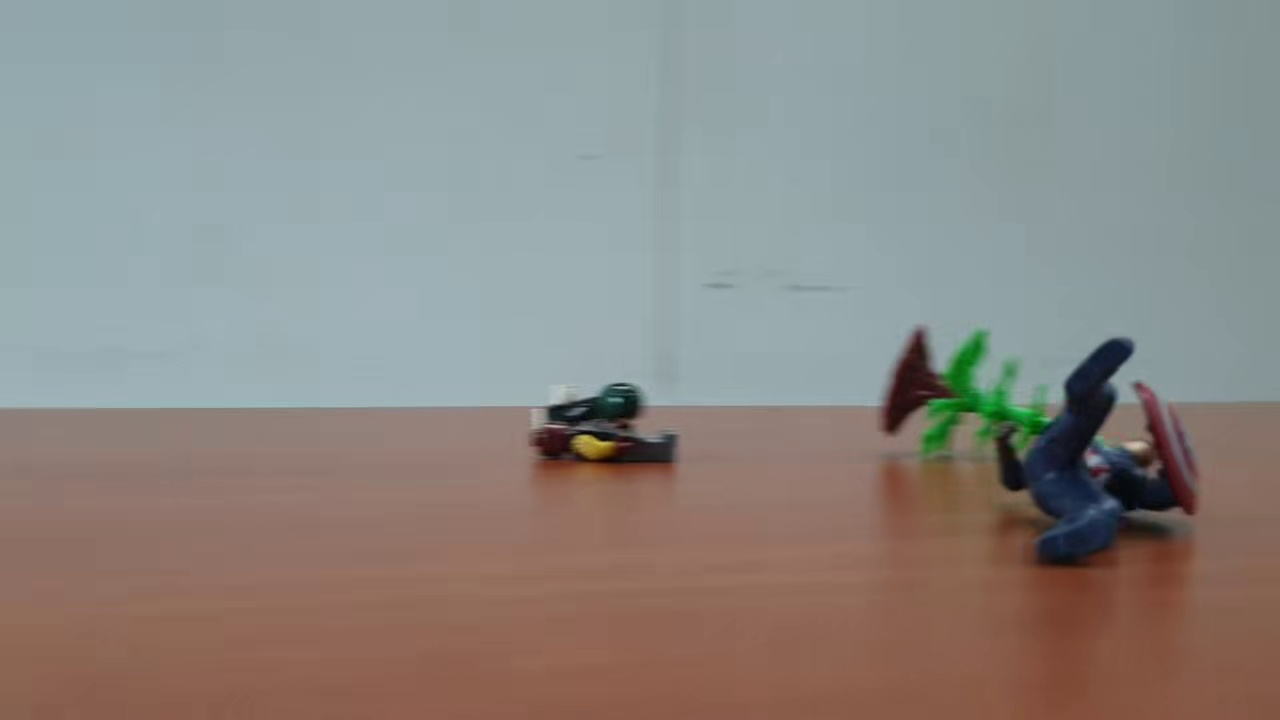people: (990, 337, 1213, 568), (524, 417, 680, 469), (533, 381, 649, 447)
tree: (869, 322, 1074, 475)
